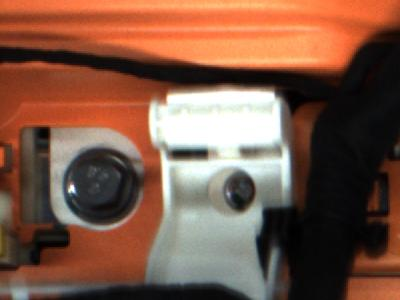nut_b: (64, 150, 142, 227)
